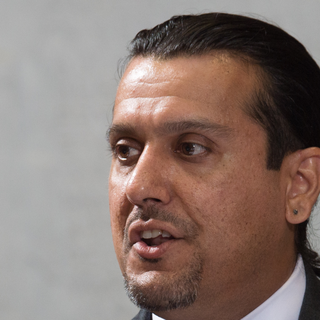eye: (171, 138, 215, 163), (110, 141, 147, 164)
